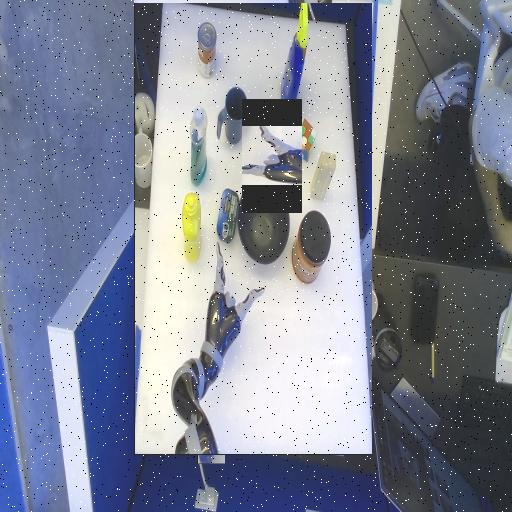bowl: (218, 194, 268, 279)
cleanser: (300, 271, 316, 350)
coffee_can: (176, 174, 214, 245)
jaco: (242, 126, 302, 184)
meat_can: (267, 214, 289, 268)
mug: (259, 313, 289, 369)
mustard_bottle: (305, 195, 324, 263)
rubik: (190, 305, 212, 327)
soup_can: (290, 379, 308, 434)
tennis_ball: (221, 294, 238, 324)
windex: (198, 345, 225, 463)
wooden_block: (170, 268, 195, 293)
workspace: (134, 3, 372, 454)
